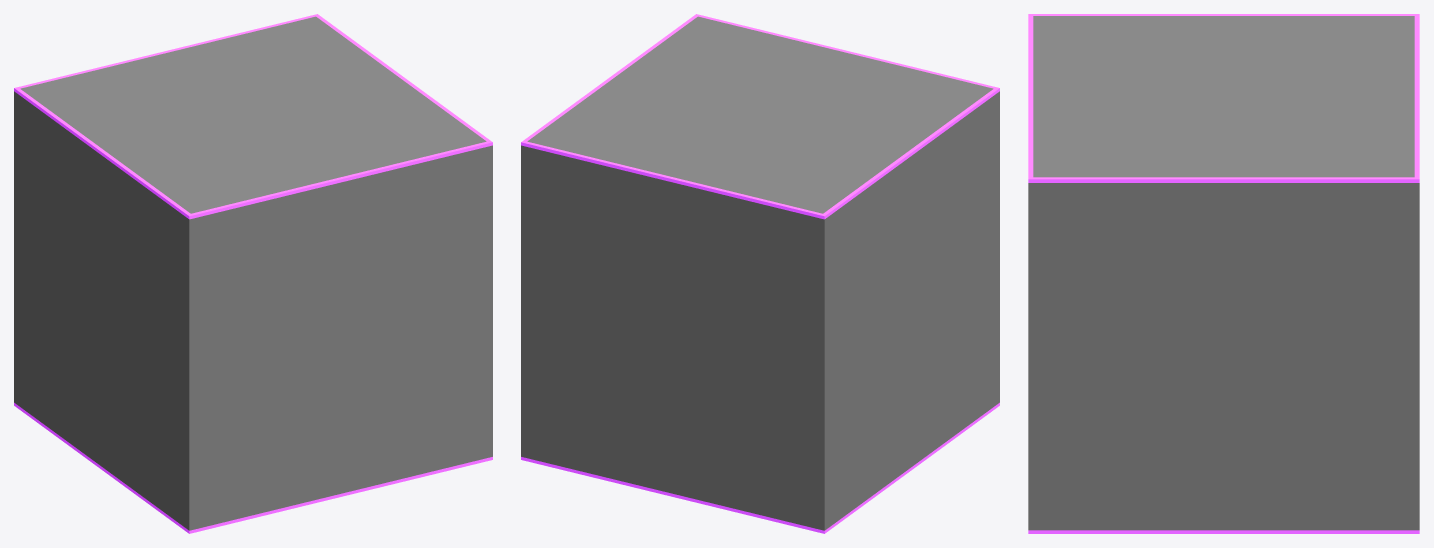
File: GroundTile.FBX
The picture shows the model from 3 angles, left to right: view 1: azimuth 30°, elevation 25°; view 2: azimuth 150°, elevation 25°; view 3: azimuth 270°, elevation 25°; orthographic projection. The views are drawn at different scales.
Visible parts, largest first — view 1: GroundTile; view 2: GroundTile; view 3: GroundTile.
Part boxes in pixels (x1,y1,x2,y2): GroundTile: [14, 14, 492, 533]; GroundTile: [521, 14, 999, 533]; GroundTile: [1028, 14, 1419, 533].
Bounding box in the file's own units: 100 × 100 × 100.
